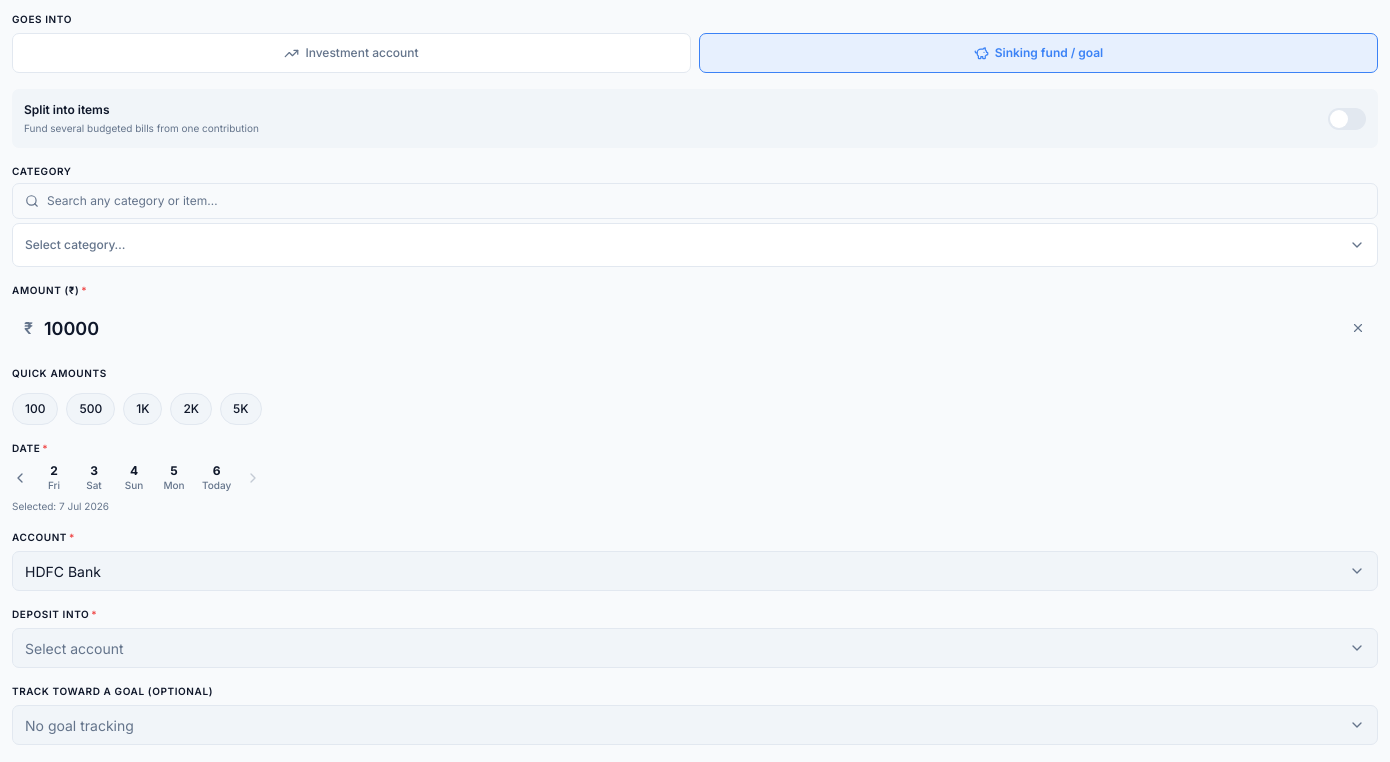
Test: InvestmentForm — Sinking fund destination › excludes the current source account from the Deposit Into options
The image size is (1390, 762).
Click the dropdown named "deposit into". click: (74, 648)
box: x1=12 y1=628 x2=1378 y2=668
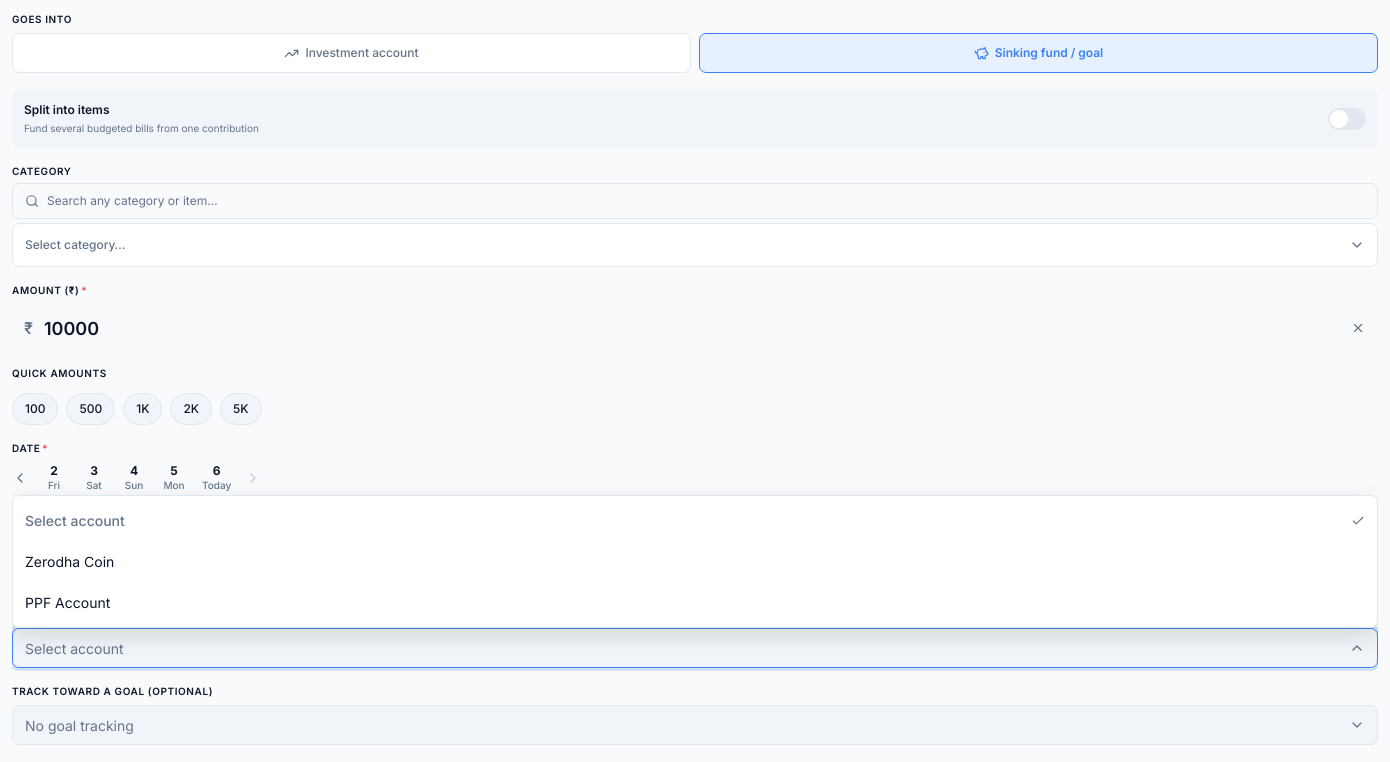
Check: the option "Zerodha Coin" is shown, box x1=25 y1=553 x2=114 y2=570
